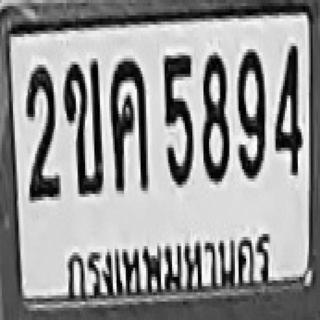A02: (63, 57, 102, 192)
A04: (109, 55, 146, 188)
N02: (25, 63, 58, 198)
N04: (274, 42, 302, 174)
N05: (163, 52, 192, 185)
N08: (201, 51, 228, 180)
N09: (237, 48, 265, 177)
P04: (63, 221, 269, 301)
